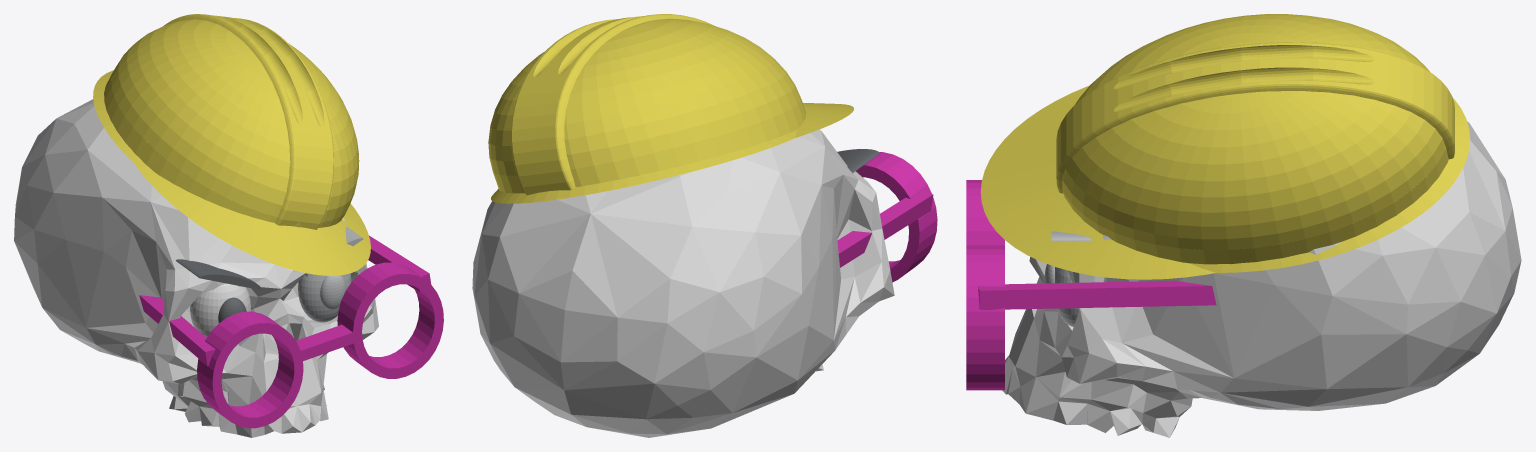
3 views of the same model, side by side, from view 1: azimuth 30°, elevation 25°; view 2: azimuth 150°, elevation 25°; view 3: azimuth 270°, elevation 25° (orthographic). The views are drawn at different scales.
Visible parts, largest first — view 1: Mesh_Mesh_head_geo.001_lambert2SG.001; view 2: Mesh_Mesh_head_geo.001_lambert2SG.001; view 3: Mesh_Mesh_head_geo.001_lambert2SG.001.
Boxes of the visible parts, bbox=[...] form: Mesh_Mesh_head_geo.001_lambert2SG.001: bbox=[14, 14, 443, 437]; Mesh_Mesh_head_geo.001_lambert2SG.001: bbox=[472, 14, 937, 437]; Mesh_Mesh_head_geo.001_lambert2SG.001: bbox=[966, 14, 1521, 437].
Size of the model in its own units: 0.287 by 0.318 by 0.408.
